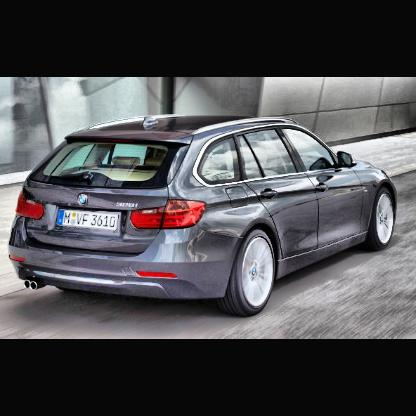BMW 3 Series Wagon 2012: (8, 99, 404, 327)
